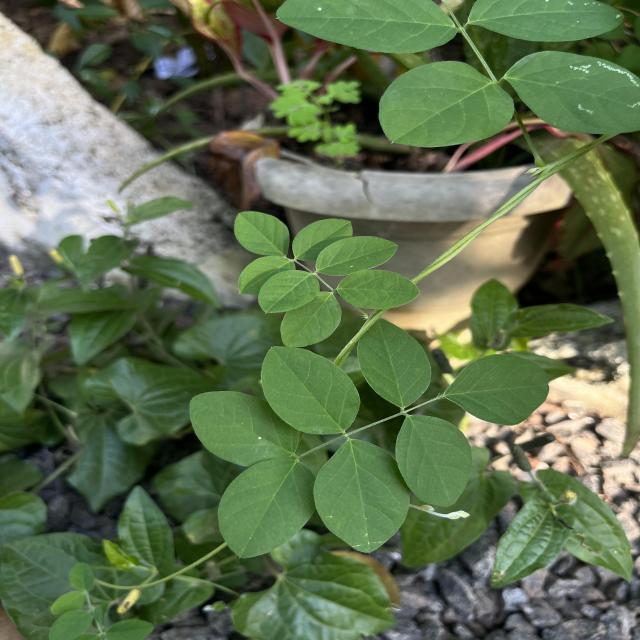Clitoria ternatea: (313, 438, 412, 554), (216, 458, 318, 560), (260, 346, 362, 436), (189, 390, 301, 468), (442, 353, 550, 427), (394, 414, 474, 508), (357, 316, 432, 409), (336, 268, 421, 310), (314, 236, 398, 276), (258, 269, 320, 314), (233, 210, 291, 256)
